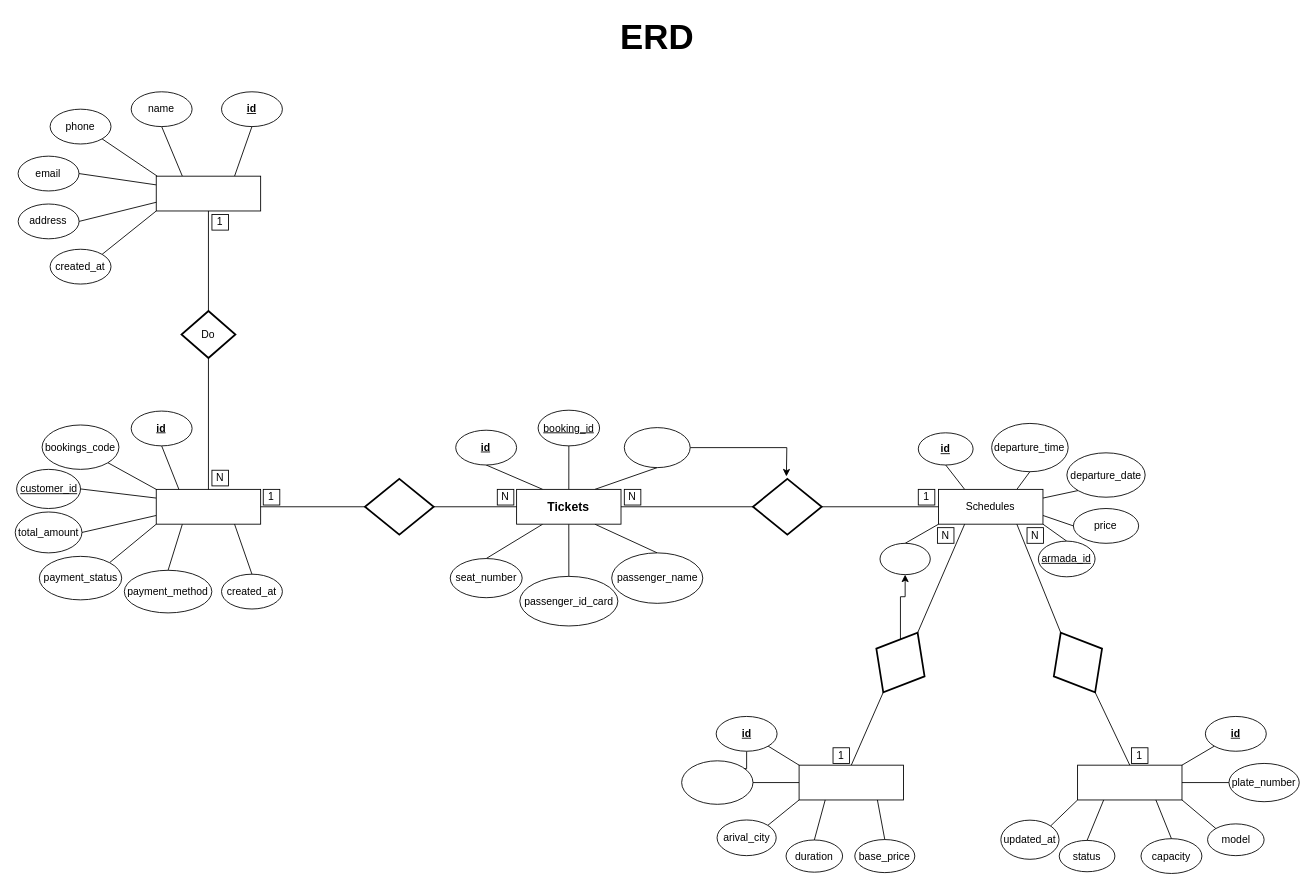
Image size: 1315x888. Some labels were removed from this diagram. Here are the shapes that lost their labels. From the top down, the centre of each, then its label:
the point at 208,193: Customers
the point at 656,447: schedule_id
the point at 208,506: Bookings
the point at 399,506: Consist Of
the point at 787,506: Includes
the point at 904,558: route_id
the point at 900,662: Have
the point at 1077,662: Use
the point at 717,782: departure_city
the point at 850,782: Routes
the point at 1129,782: Armadas
